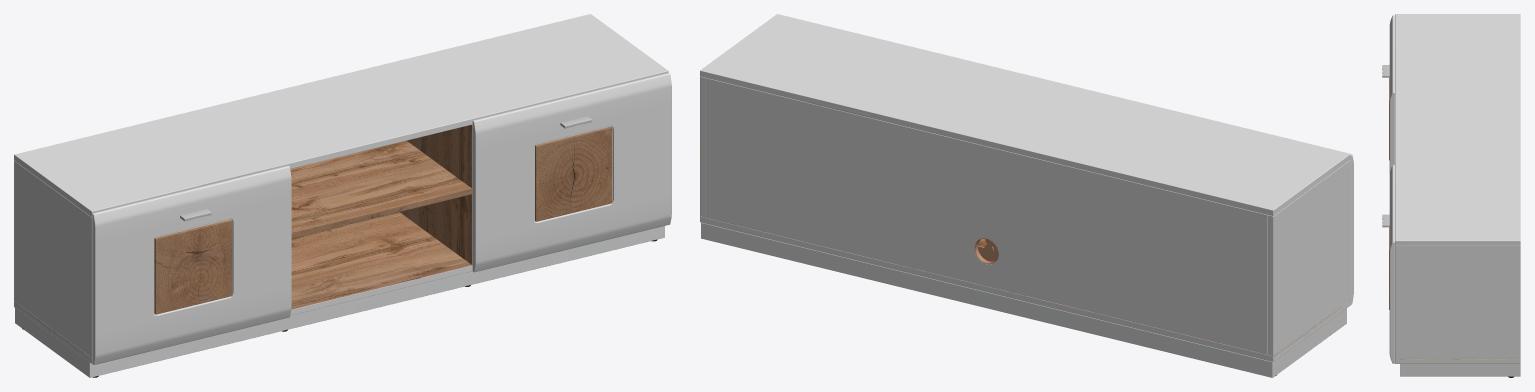
File: abo-B07JGPKSBB.glb
3 renders of one model, left to right at view 1: azimuth 30°, elevation 25°; view 2: azimuth 150°, elevation 25°; view 3: azimuth 270°, elevation 25°, orthographic. The views are drawn at different scales.
Size of the model in its own units: 1.55 by 0.44 by 0.4.
Materials: 1 (1 with a texture image).
